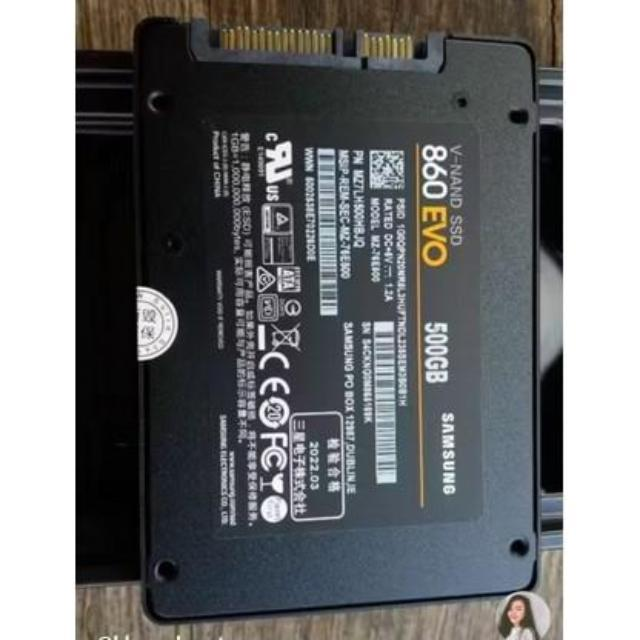DISK: (126, 11, 542, 620)
